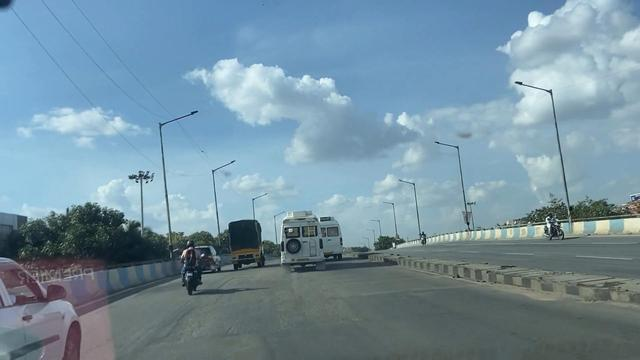HMV: (276, 211, 324, 270), (220, 223, 264, 273), (320, 213, 340, 260)
LMV: (181, 245, 200, 291)
RoadDamages: (152, 297, 364, 355)
